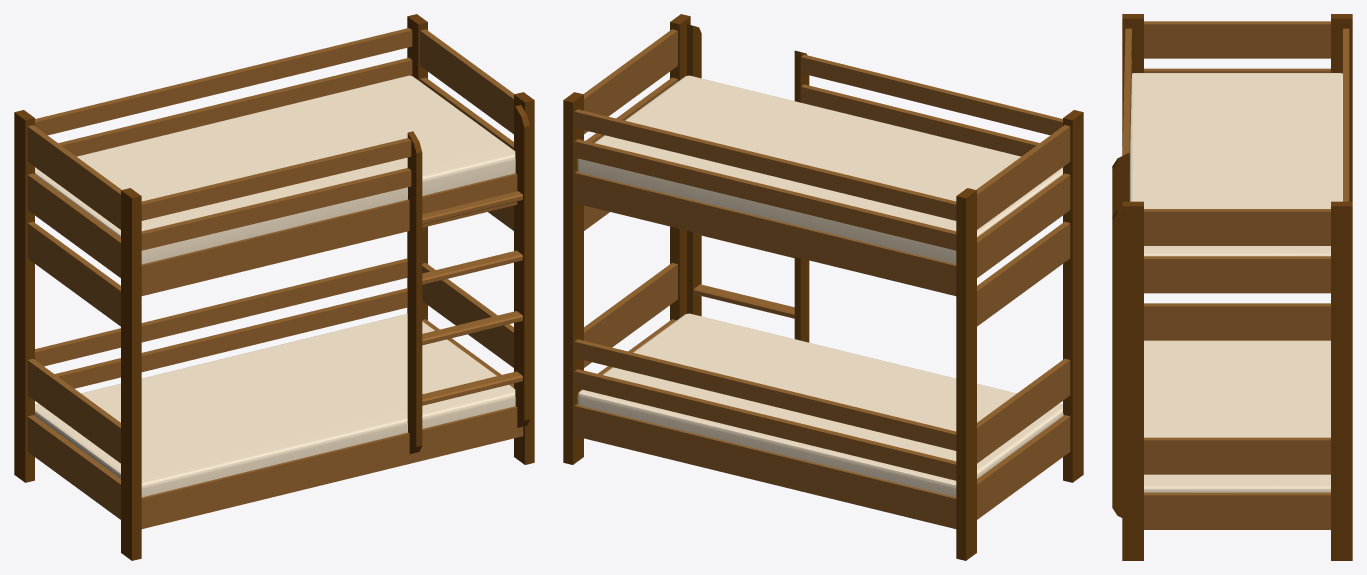
File: M_Sem4_Prop_Etagenbett_FHaufe.fbx
3 views of the same model, side by side, from view 1: azimuth 30°, elevation 25°; view 2: azimuth 150°, elevation 25°; view 3: azimuth 270°, elevation 25° (orthographic). The views are drawn at different scales.
Visible parts, largest first — view 1: pCube44; view 2: pCube44; view 3: pCube44.
Boxes of the visible parts, <box> form: pCube44: <box>14,14,534,560</box>; pCube44: <box>563,14,1083,560</box>; pCube44: <box>1112,14,1352,560</box>.
Size of the model in its own units: 209 by 180 by 111.
